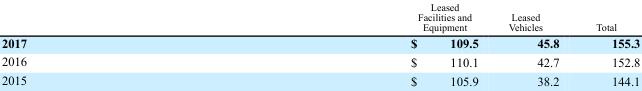table: (0, 0, 639, 87)
table column: (218, 0, 492, 87), (0, 0, 218, 87), (492, 0, 576, 87), (576, 0, 639, 87)
table column header: (0, 0, 639, 33)
table row: (0, 0, 639, 33), (0, 51, 639, 70), (0, 33, 639, 51), (0, 70, 639, 87)
